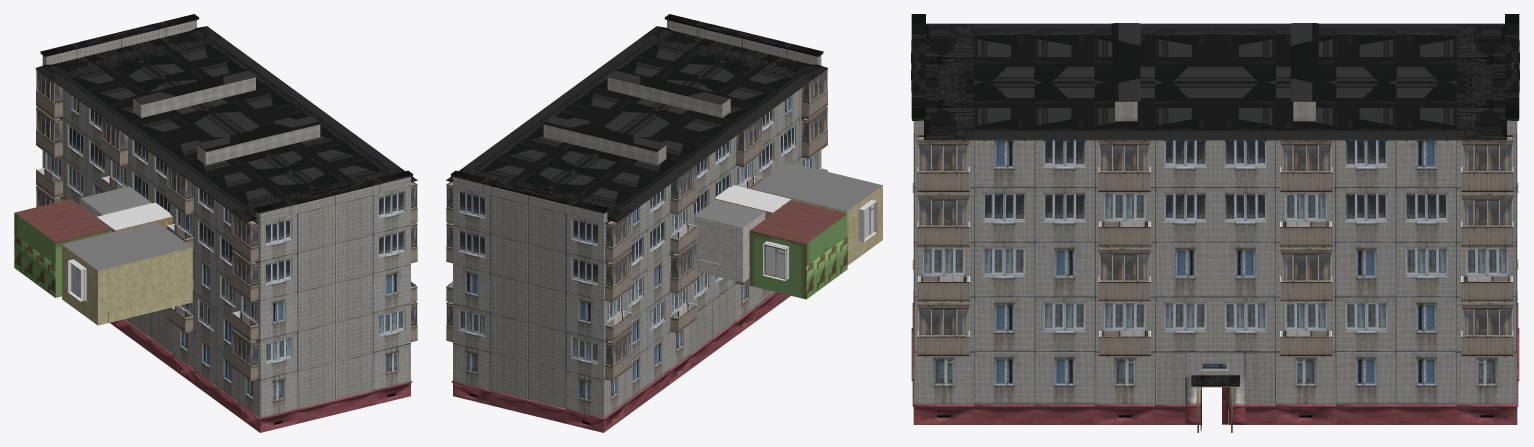
The model's file is DomOtdelno.fbx.
3 renders of one model, left to right at view 1: azimuth 30°, elevation 25°; view 2: azimuth 150°, elevation 25°; view 3: azimuth 270°, elevation 25°, orthographic. The views are drawn at different scales.
Visible parts, largest first — view 1: Window.045, Cube.042, Cube.013, Window.001, Cube.041, Cube.043; view 2: Window.045, Cube.042, Cube.041, Cube.026, Window.001, Cube.013, Cube.043, Window.003; view 3: Window.045, Window.002, Window.004.
Part boxes in pixels (<box>): Window.045: <box>35,14,417,432</box>; Cube.042: <box>15,186,192,270</box>; Cube.013: <box>62,245,192,325</box>; Window.001: <box>128,309,172,368</box>; Cube.041: <box>14,213,112,297</box>; Cube.043: <box>14,235,55,297</box>; Window.045: <box>446,14,827,432</box>; Cube.042: <box>694,162,882,243</box>; Cube.041: <box>749,214,847,299</box>; Cube.026: <box>693,212,765,282</box>; Window.001: <box>690,285,735,368</box>; Cube.013: <box>752,185,882,265</box>; Cube.043: <box>806,236,847,299</box>; Window.003: <box>765,246,784,278</box>; Window.045: <box>911,14,1519,424</box>; Window.002: <box>1155,352,1275,424</box>; Window.004: <box>1185,352,1245,432</box>.
Bounding box in the file's own units: 2254 × 1712 × 3026.
